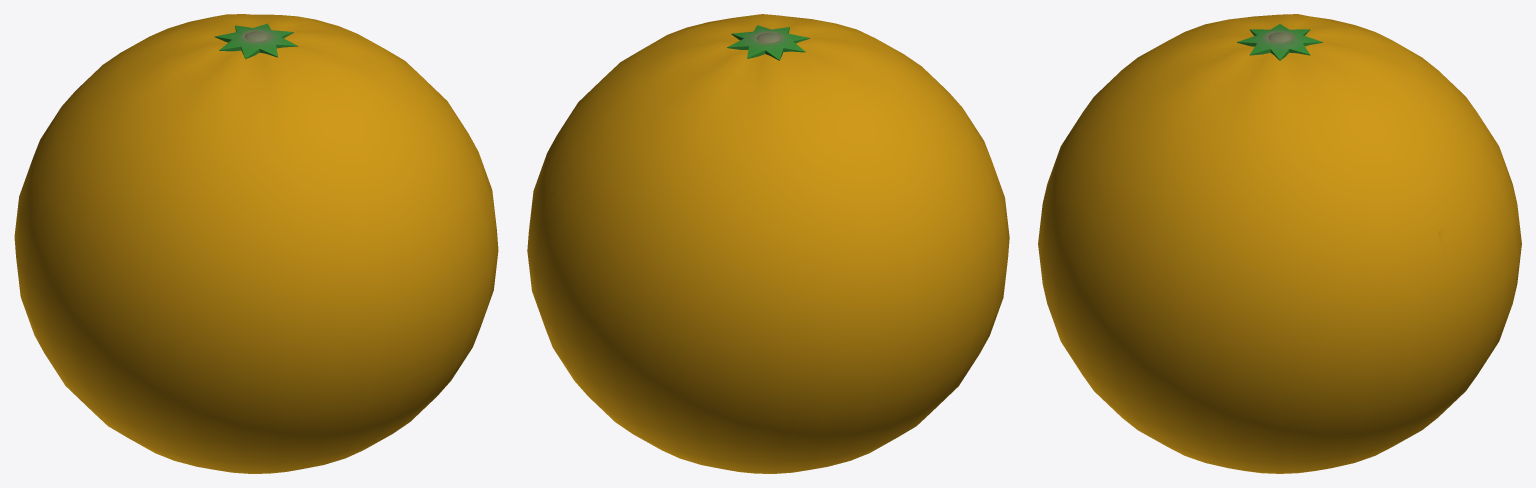
The model's file is orange.fbx.
3 renders of one model, left to right at view 1: azimuth 30°, elevation 25°; view 2: azimuth 150°, elevation 25°; view 3: azimuth 270°, elevation 25°, orthographic.
Visible parts, largest first — view 1: Cylinder.006; view 2: Cylinder.006; view 3: Cylinder.006.
Part boxes in pixels (<box>): Cylinder.006: <box>14,14,498,473</box>; Cylinder.006: <box>527,14,1009,473</box>; Cylinder.006: <box>1038,14,1521,473</box>.
Bounding box in the file's own units: 220 × 206 × 220.
